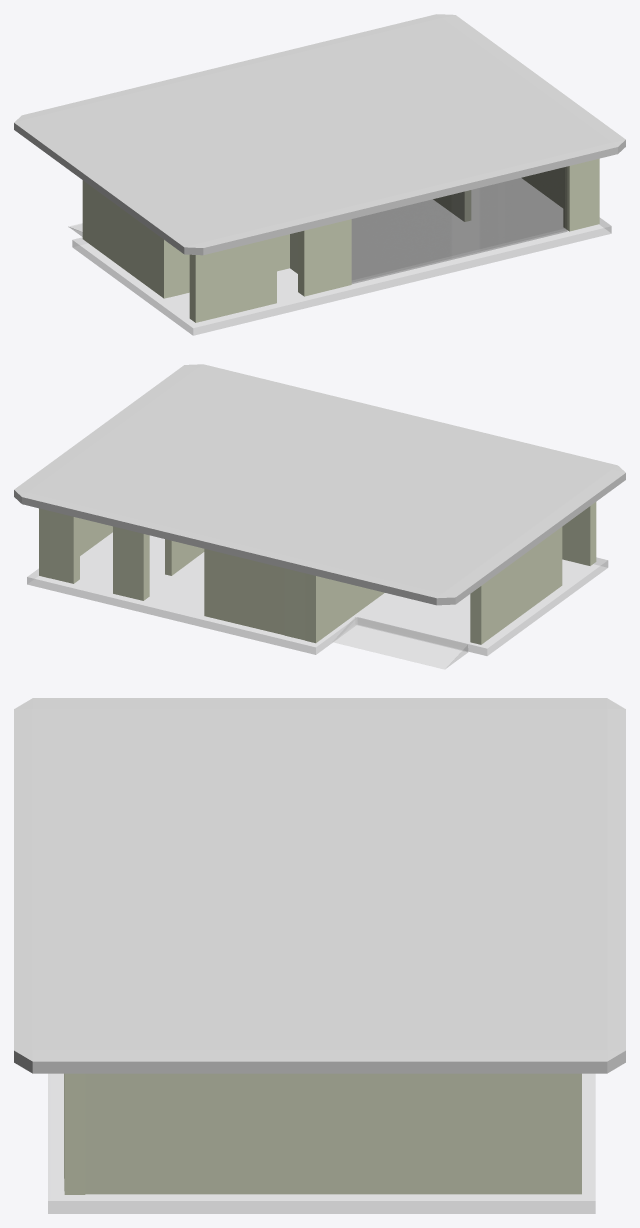
Rendered from building14.glb.
3 renders of one model, top to bottom at view 1: azimuth 30°, elevation 25°; view 2: azimuth 150°, elevation 25°; view 3: azimuth 270°, elevation 25°, orthographic. The views are drawn at different scales.
Visible parts, largest first — view 1: roof, floor, Walls, backyard-glass; view 2: roof, Walls, floor, Cube; view 3: roof, Walls, floor.
Part boxes in pixels (x1,y1,x2,y2): roof: (14, 14, 625, 255); floor: (72, 178, 611, 335); Walls: (82, 158, 599, 322); backyard-glass: (352, 167, 567, 283); roof: (14, 364, 625, 605); Walls: (39, 502, 596, 644); floor: (27, 532, 608, 655); Cube: (333, 617, 468, 669); roof: (14, 698, 625, 1073); Walls: (64, 1073, 581, 1194); floor: (48, 1073, 595, 1213).
Bounding box in the file's own units: 15.42 × 3.22 × 10.97.
4 materials, 1 textured.
